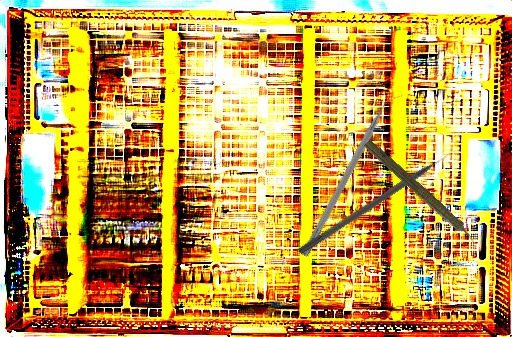Chopper: (300, 86, 406, 264)
Handpiece: (359, 137, 485, 253)
Pusher: (297, 147, 459, 257)
